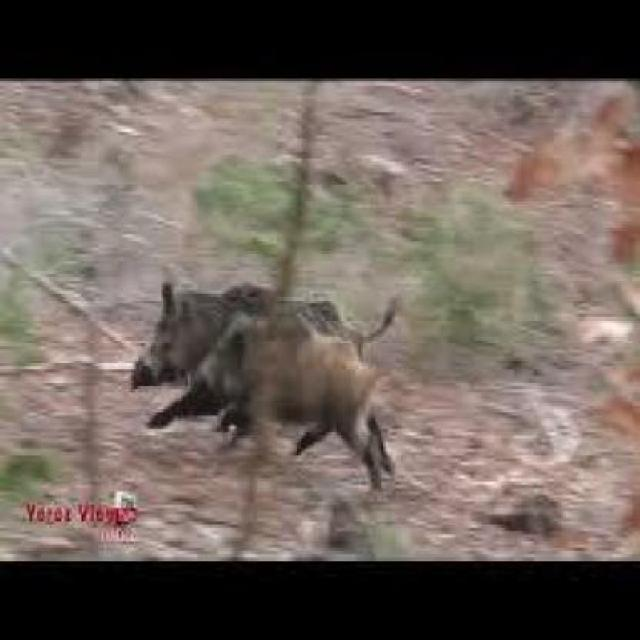wildboar: (129, 273, 397, 505), (195, 306, 400, 492)
